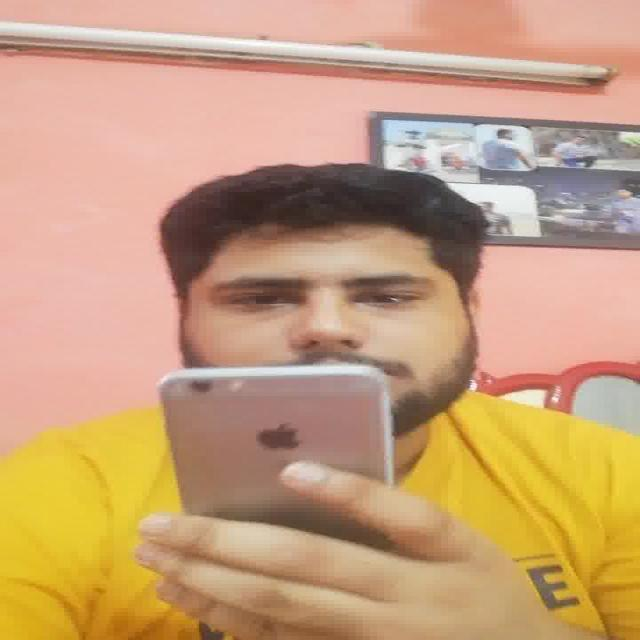Phone: (156, 362, 396, 514)
